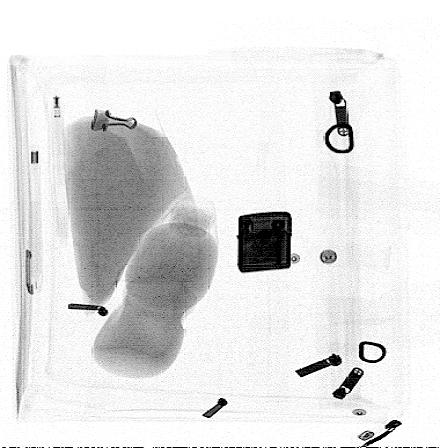Lighter: (238, 211, 292, 272)
